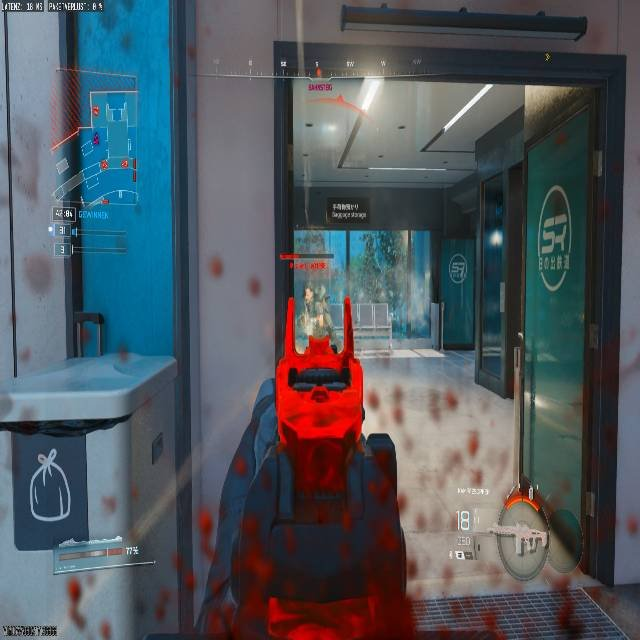player: (205, 321, 416, 637)
